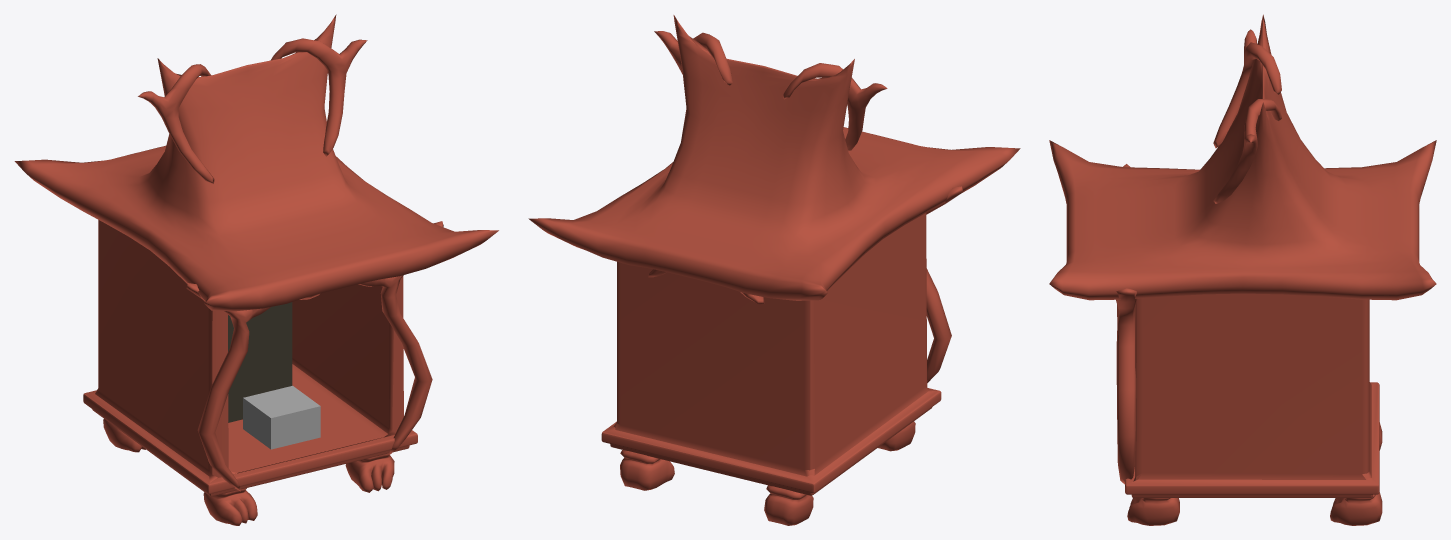
File: record_point.fbx
The picture shows the model from 3 angles, left to right: view 1: azimuth 30°, elevation 25°; view 2: azimuth 150°, elevation 25°; view 3: azimuth 270°, elevation 25°; orthographic projection.
Visible parts, largest first — view 1: record_point; view 2: record_point; view 3: record_point.
Boxes of the visible parts, x1,y1,x2,y2 form: record_point: (14,14,498,525); record_point: (528,15,1020,525); record_point: (1049,14,1436,525).
Size of the model in its own units: 0.9296 by 1.29 by 1.06.
